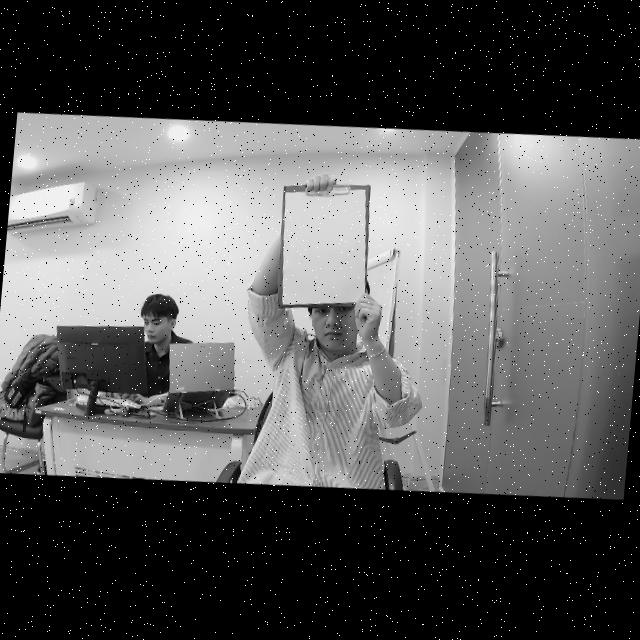face: (306, 303, 364, 356), (139, 304, 173, 342)
